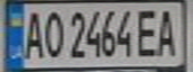2: (66, 7, 87, 60)
4: (115, 6, 136, 57), (84, 7, 103, 58)
6: (100, 7, 121, 57)
A: (154, 5, 181, 57), (21, 7, 45, 60)
E: (136, 6, 160, 58)
O: (42, 7, 66, 60)
